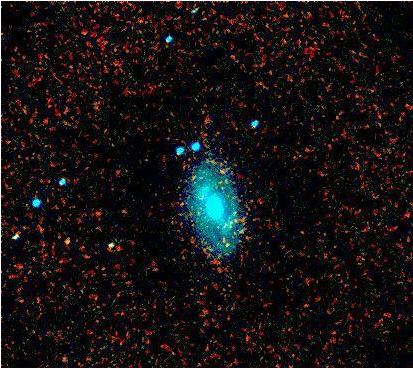star: (51, 222, 81, 252)
